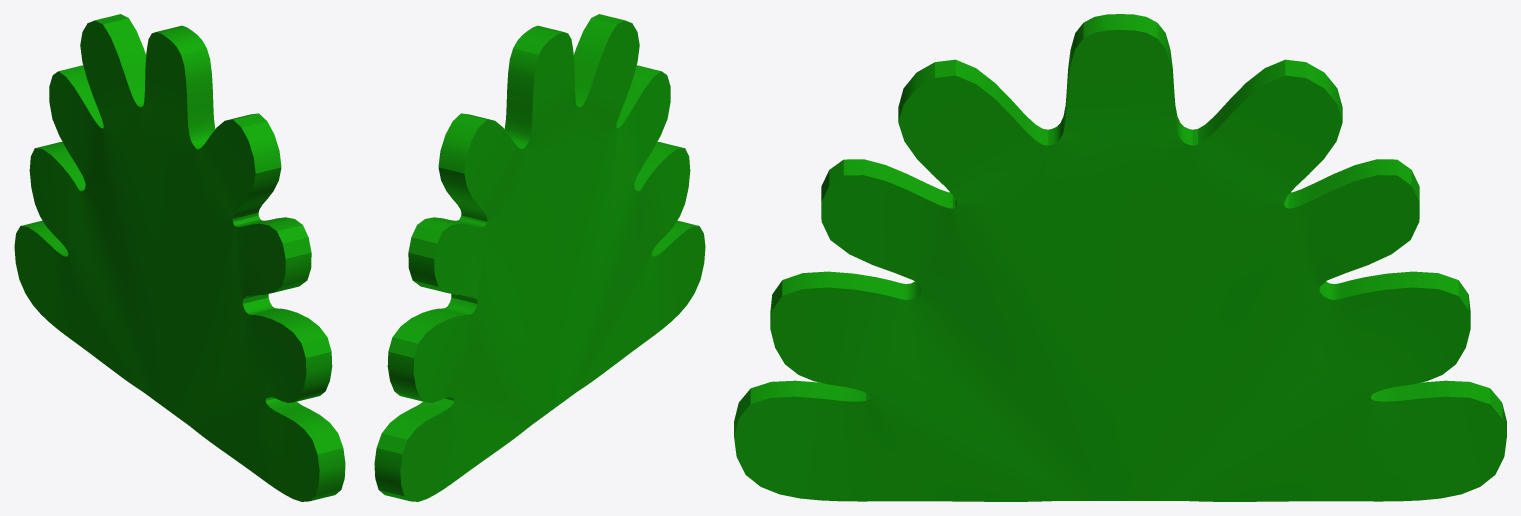
The model's file is foliage.fbx.
The picture shows the model from 3 angles, left to right: view 1: azimuth 30°, elevation 25°; view 2: azimuth 150°, elevation 25°; view 3: azimuth 270°, elevation 25°; orthographic projection. The views are drawn at different scales.
Parts seen in each view (by area): view 1: foliage; view 2: foliage; view 3: foliage.
Part boxes in pixels (x1,y1,x2,y2): foliage: (14, 14, 345, 501); foliage: (374, 14, 705, 501); foliage: (734, 14, 1506, 501).
Size of the model in its own units: 23.51 by 274 by 407.
